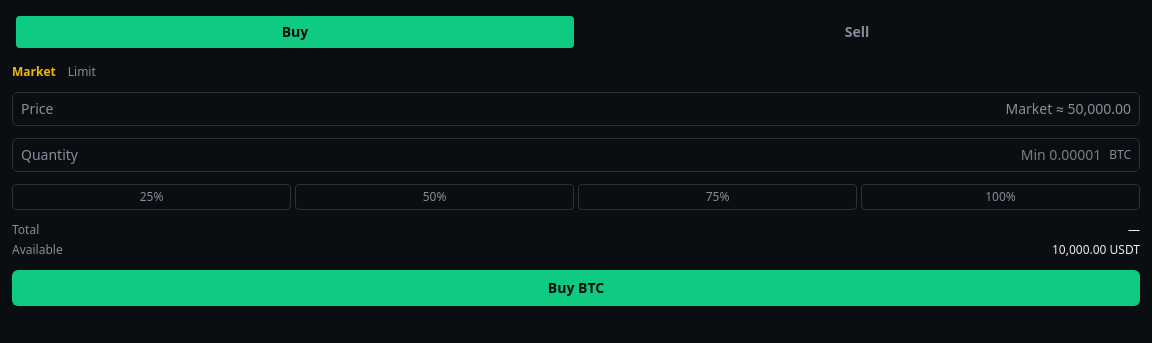
Test case: OrderForm › cannot sell coins you do not hold
Click the button "Sell": (857, 32) [578,16,1136,48]
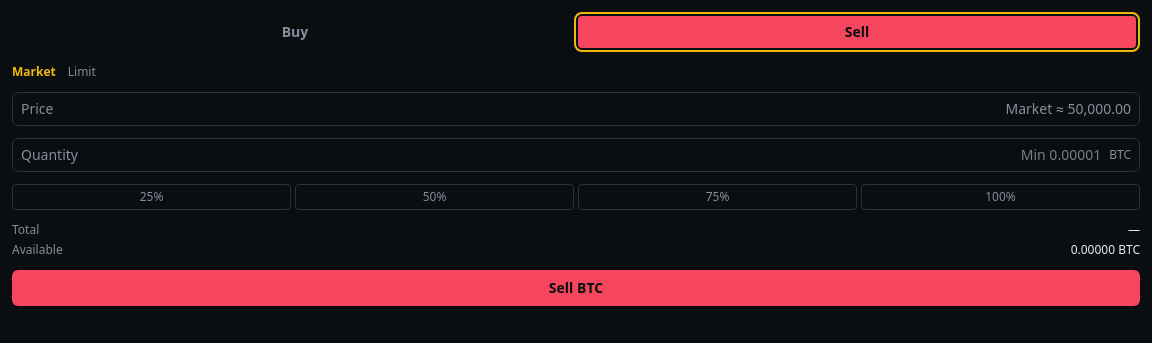
In the field labelled "Quantity BTC": (594, 155) [86,145,1101,165], type "0.01"
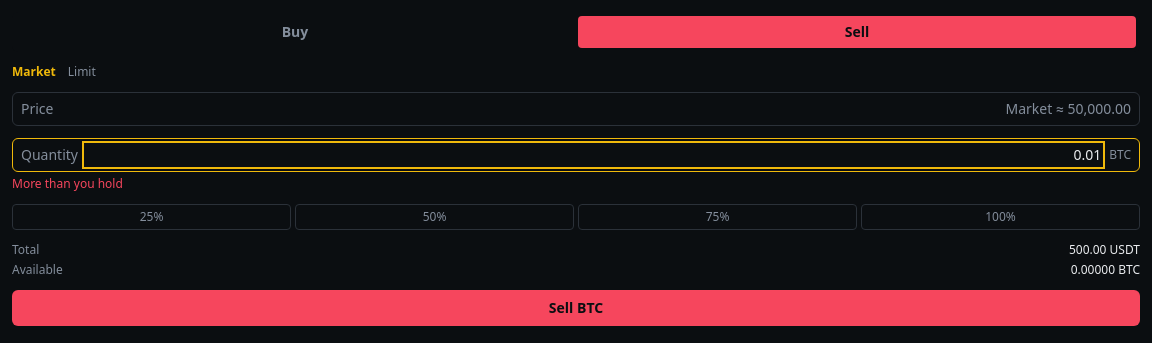
Expected: the button "Sell BTC" is shown, [12,290,1140,326]
Expected: the text "More than you hold" is shown, [12,175,123,192]
